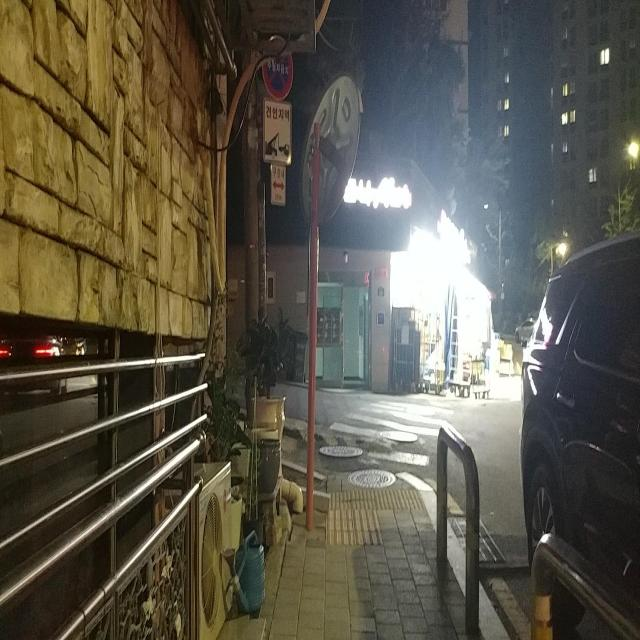횡단보도: (328, 398, 455, 468)
